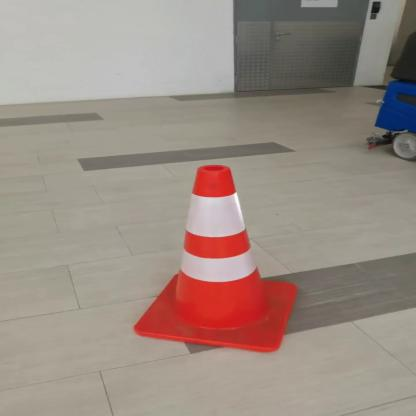cone: (128, 158, 311, 358)
